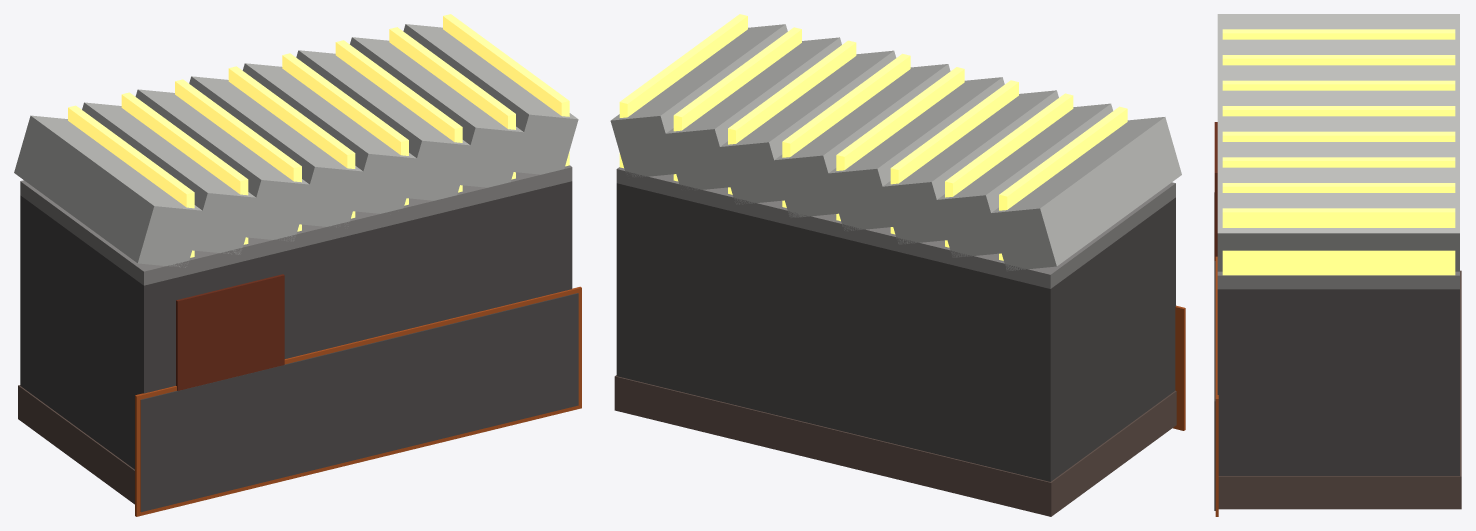
Rendered from processing_hall_2_kiln.glb.
3 views of the same model, side by side, from view 1: azimuth 30°, elevation 25°; view 2: azimuth 150°, elevation 25°; view 3: azimuth 270°, elevation 25° (orthographic). The views are drawn at different scales.
Visible parts, largest first — view 1: Cube, Cube.004, Cube.002, Cube.003, Cube.029, Cube.021, Cube.025, Cube.031, Cube.027, Cube.023, Cube.006, Cube.018 (+19 smaller); view 2: Cube, Cube.001, Cube.004, Cube.003, Cube.008, Cube.010, Cube.012, Cube.014, Cube.018, Cube.006, Cube.016, Cube.019 (+8 smaller); view 3: Cube, Cube.019, Cube.018, Cube.001, Cube.006, Cube.010, Cube.004, Cube.008, Cube.012, Cube.014, Cube.016, Cube.003 (+9 smaller).
Boxes of the visible parts, x1,y1,x2,y2 form: Cube: (20,181,572,469); Cube.004: (14,115,202,267); Cube.002: (176,274,284,390); Cube.003: (20,165,572,285); Cube.029: (426,311,507,442); Cube.021: (140,380,221,512); Cube.025: (284,345,364,477); Cube.031: (498,293,578,422); Cube.027: (355,328,434,459); Cube.023: (212,362,292,494); Cube.006: (82,102,256,254); Cube.018: (403,24,578,174); Cube: (616,183,1175,481); Cube.001: (614,375,1176,516); Cube.004: (990,117,1181,271); Cube.003: (616,167,1175,288); Cube.008: (882,90,1058,244); Cube.010: (827,77,1004,231); Cube.012: (774,64,950,217); Cube.014: (719,50,896,204); Cube.018: (610,24,787,177); Cube.006: (936,103,1112,257); Cube.016: (665,37,841,190); Cube.019: (619,14,747,168); Cube: (1217,289,1459,475); Cube.019: (1222,208,1455,275); Cube.018: (1217,193,1459,271); Cube.001: (1218,270,1461,509); Cube.006: (1217,39,1459,65); Cube.010: (1217,90,1459,116); Cube.004: (1217,14,1459,39); Cube.008: (1217,65,1459,90); Cube.012: (1217,116,1459,141); Cube.014: (1217,142,1459,167); Cube.016: (1217,167,1459,192); Cube.003: (1217,271,1459,289).
Size of the model in its own units: 16.63 by 10.95 by 8.16.
